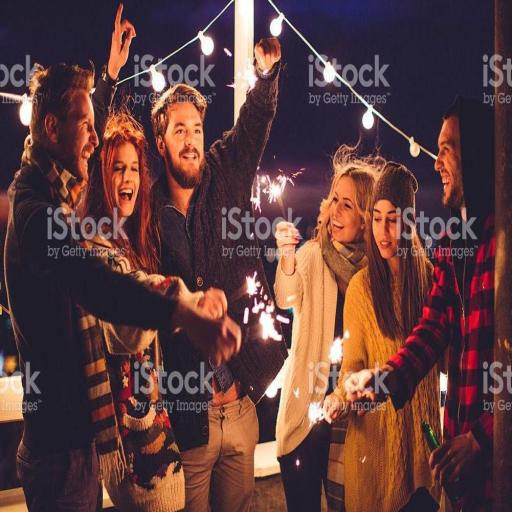person: (5, 7, 240, 511), (350, 97, 495, 510), (324, 162, 440, 511), (275, 146, 383, 511), (152, 38, 280, 324)
